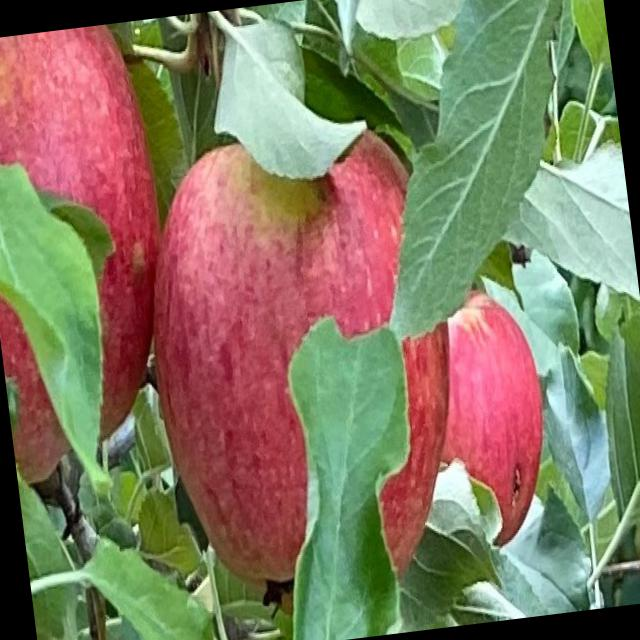Apples: (131, 123, 478, 623), (0, 21, 189, 489), (421, 286, 556, 552)
